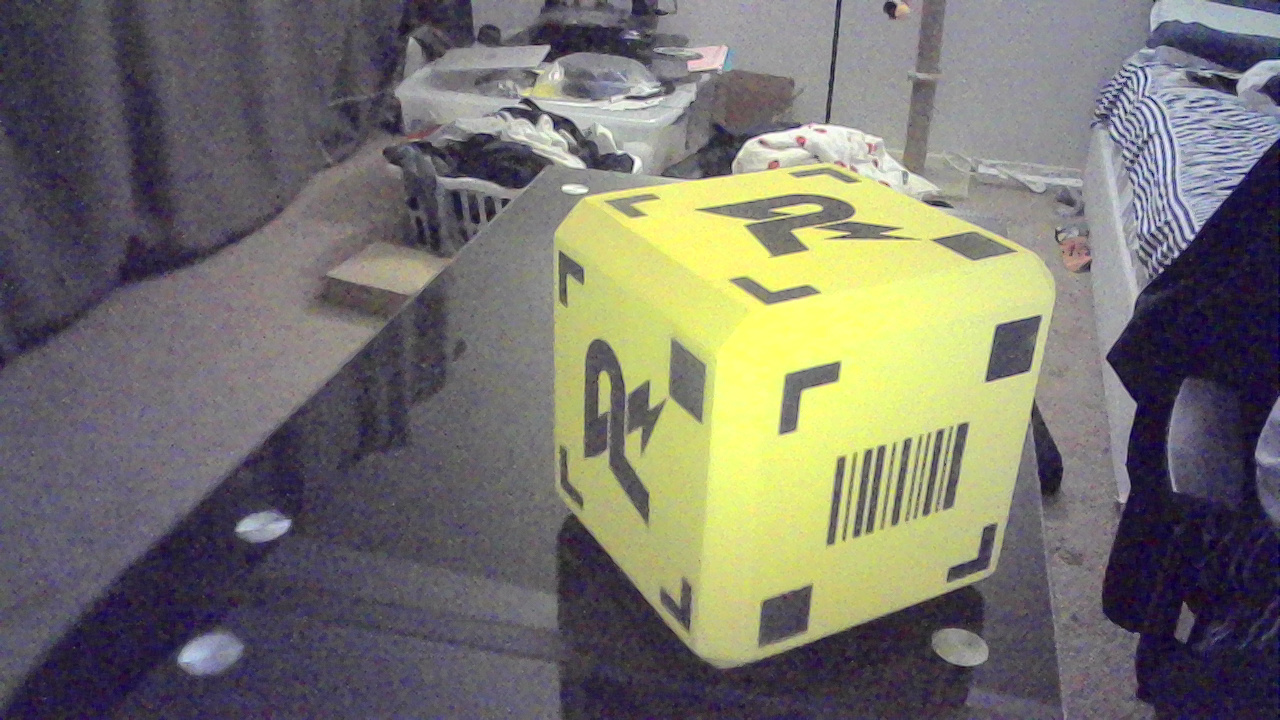Barcode: (822, 432, 980, 548)
R: (574, 344, 682, 508), (703, 187, 924, 267)
